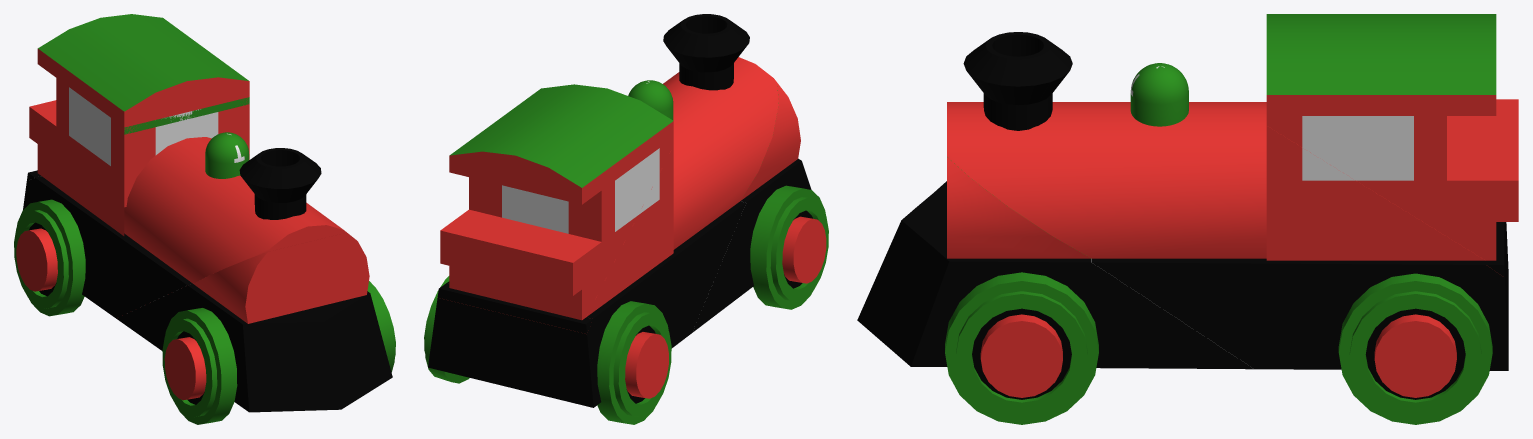
File: Train_Broken.fbx
3 renders of one model, left to right at view 1: azimuth 30°, elevation 25°; view 2: azimuth 150°, elevation 25°; view 3: azimuth 270°, elevation 25°, orthographic. The views are drawn at different scales.
Parts seen in each view (by area): view 1: TrainBro.002, TrainBro, TrainBro.001; view 2: TrainBro.002, TrainBro.001, TrainBro; view 3: TrainBro.002, TrainBro, TrainBro.001.
Part boxes in pixels (x1,y1,x2,y2): TrainBro.002: [14, 98, 346, 318]; TrainBro: [116, 232, 395, 424]; TrainBro.001: [26, 14, 249, 181]; TrainBro.002: [424, 14, 778, 424]; TrainBro.001: [437, 84, 673, 333]; TrainBro: [692, 83, 828, 332]; TrainBro.002: [947, 32, 1508, 424]; TrainBro: [857, 157, 1253, 424]; TrainBro.001: [1266, 14, 1518, 277].
Bounding box in the file's own units: 55.38 × 65.95 × 118.
